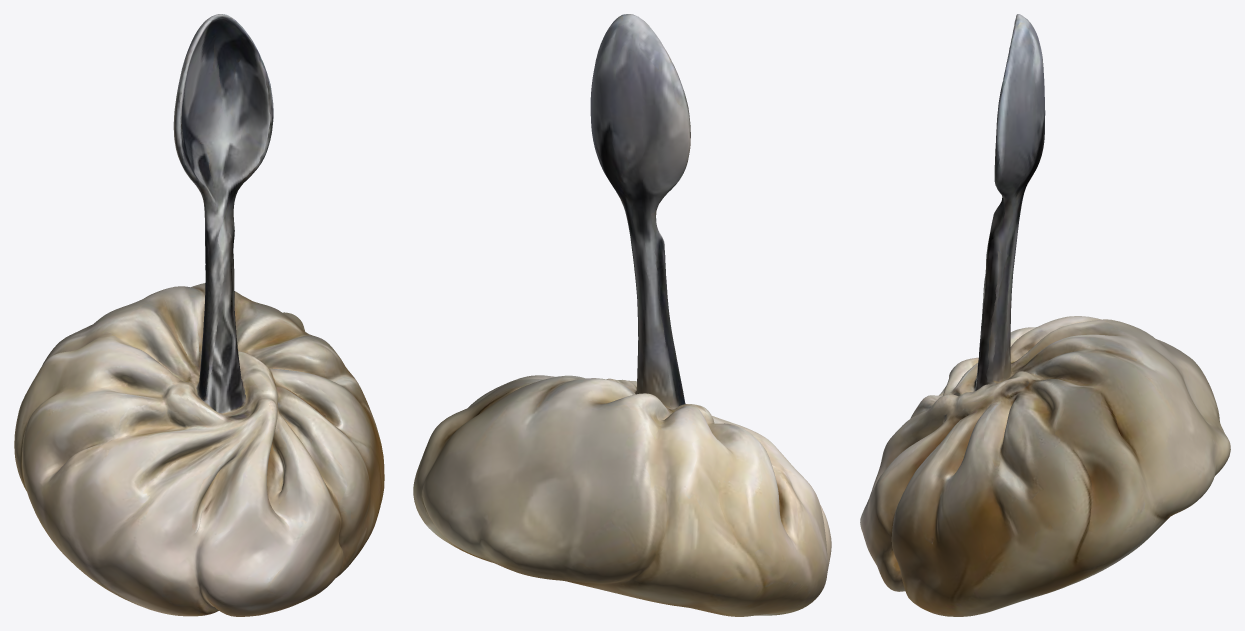
The model's file is agatha_dumpling.glb.
3 renders of one model, left to right at view 1: azimuth 30°, elevation 25°; view 2: azimuth 150°, elevation 25°; view 3: azimuth 270°, elevation 25°, orthographic. The views are drawn at different scales.
Size of the model in its own units: 0.5731 by 0.9201 by 0.5461.
Materials: 1 (1 with a texture image).
